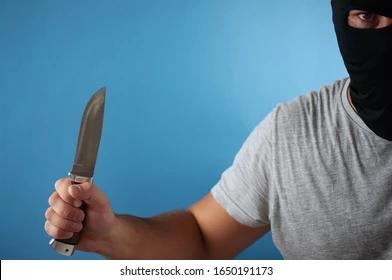Knife: (45, 0, 392, 259), (46, 179, 114, 251), (70, 86, 107, 181)
